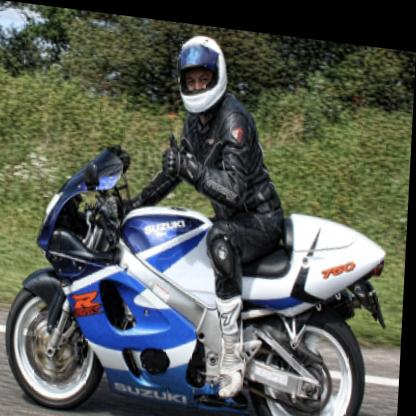With Helmet: (172, 27, 235, 116)
